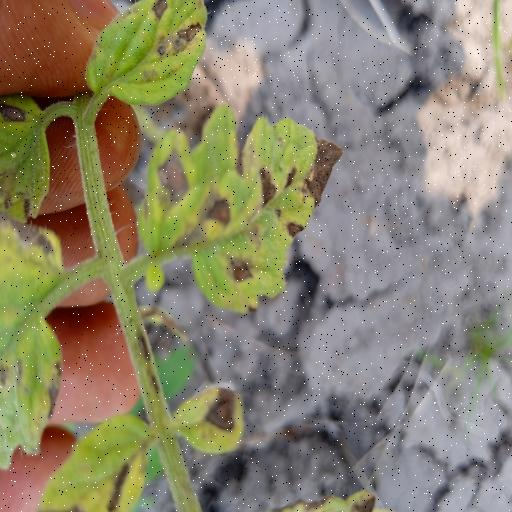Tomato_Brown_Spots: (134, 98, 348, 318), (87, 0, 213, 110)
